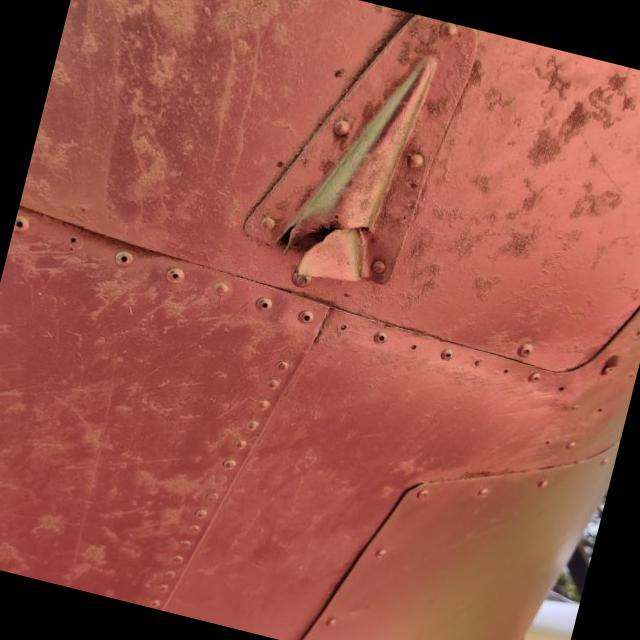Crack: (292, 227, 384, 287), (278, 226, 294, 253)
